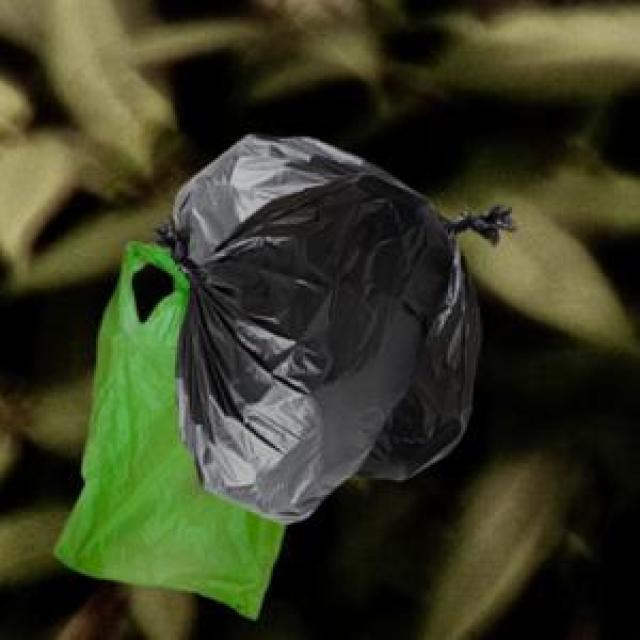miscellaneous trash: (173, 130, 479, 476), (149, 171, 446, 518)
